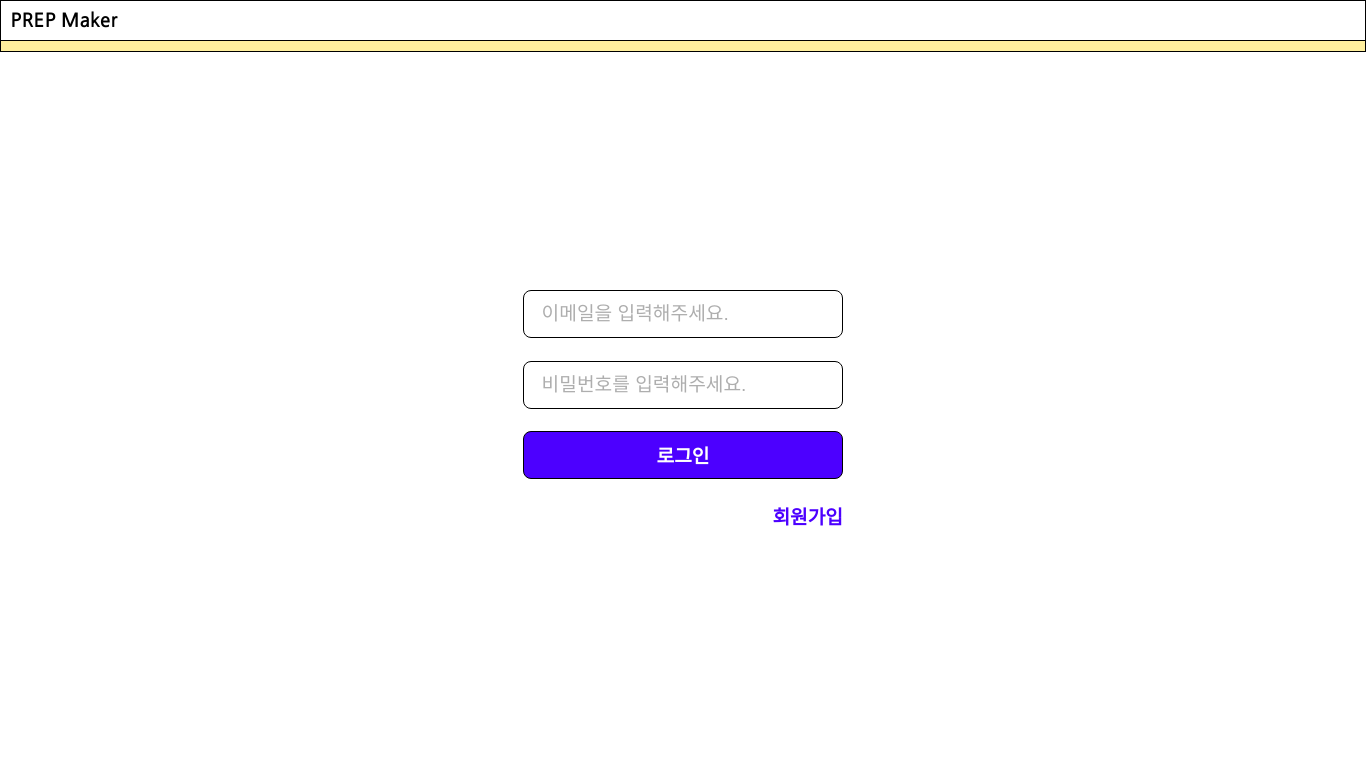
Test case: App › Login Page › 회원가입 링크를 클릭하면 회원가입 페이지로 전환된다.
Click the link "회원가입": (808, 516) left=772, top=502, right=843, bottom=530
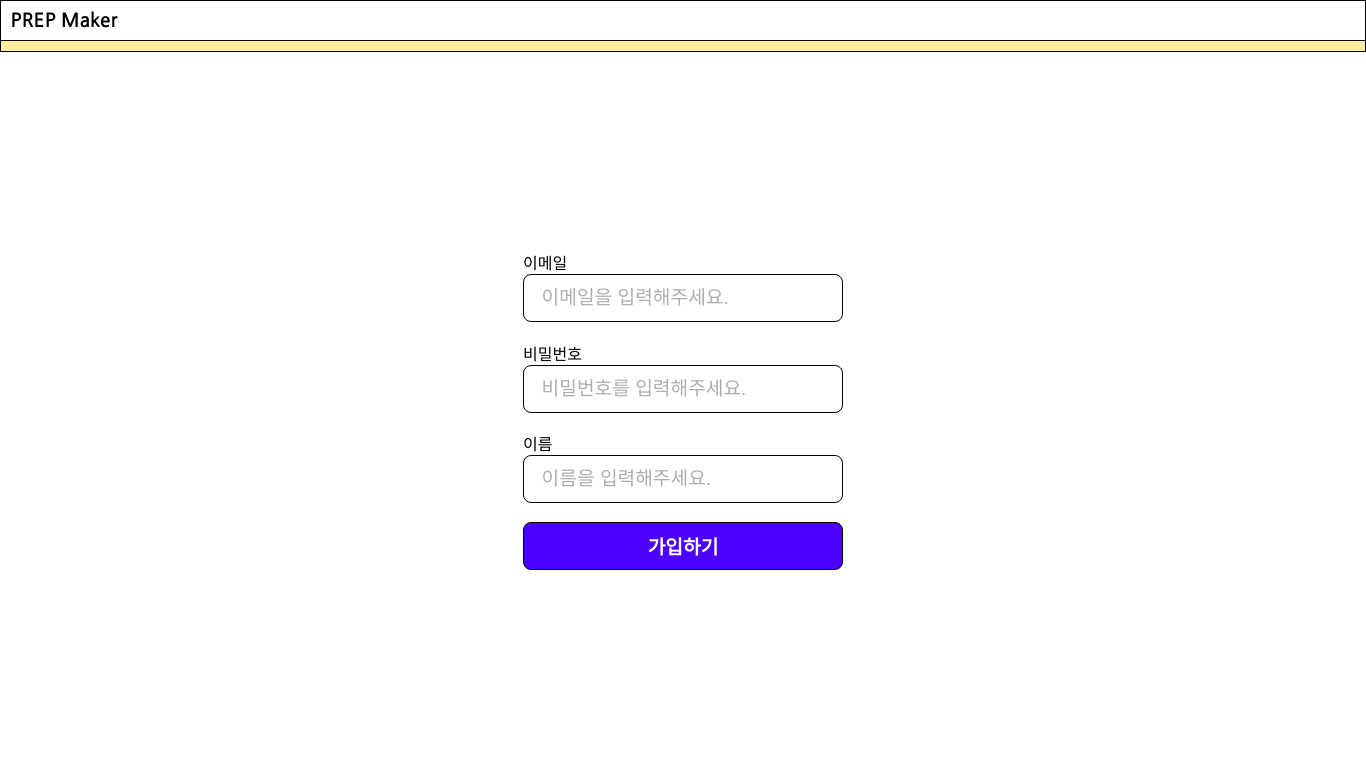
Now the button "가입하기" is shown, box left=523, top=522, right=843, bottom=570
